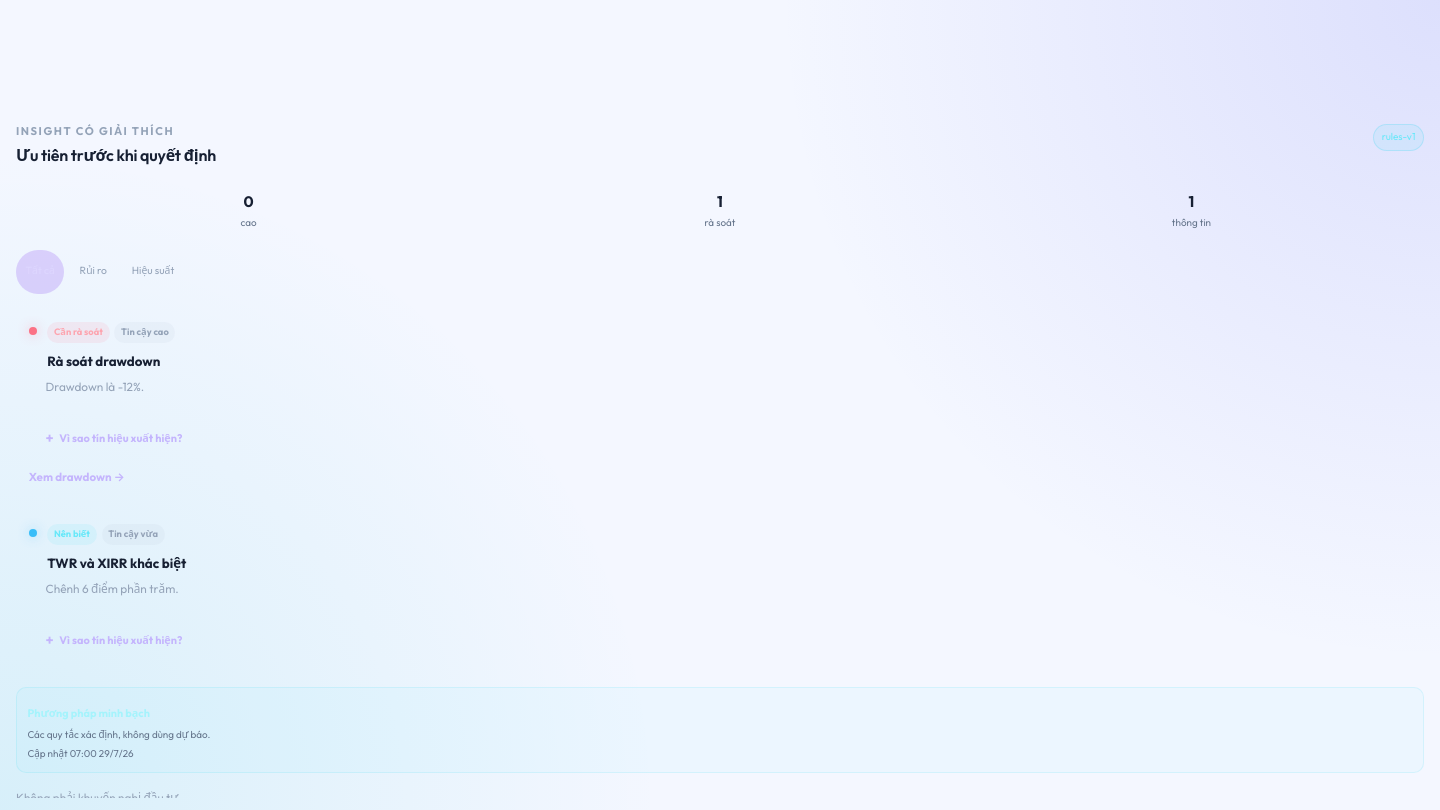
Test: InsightRail › filters insight categories without changing the source result
Click the button "Rủi ro": click(93, 272) [70,250,116,294]
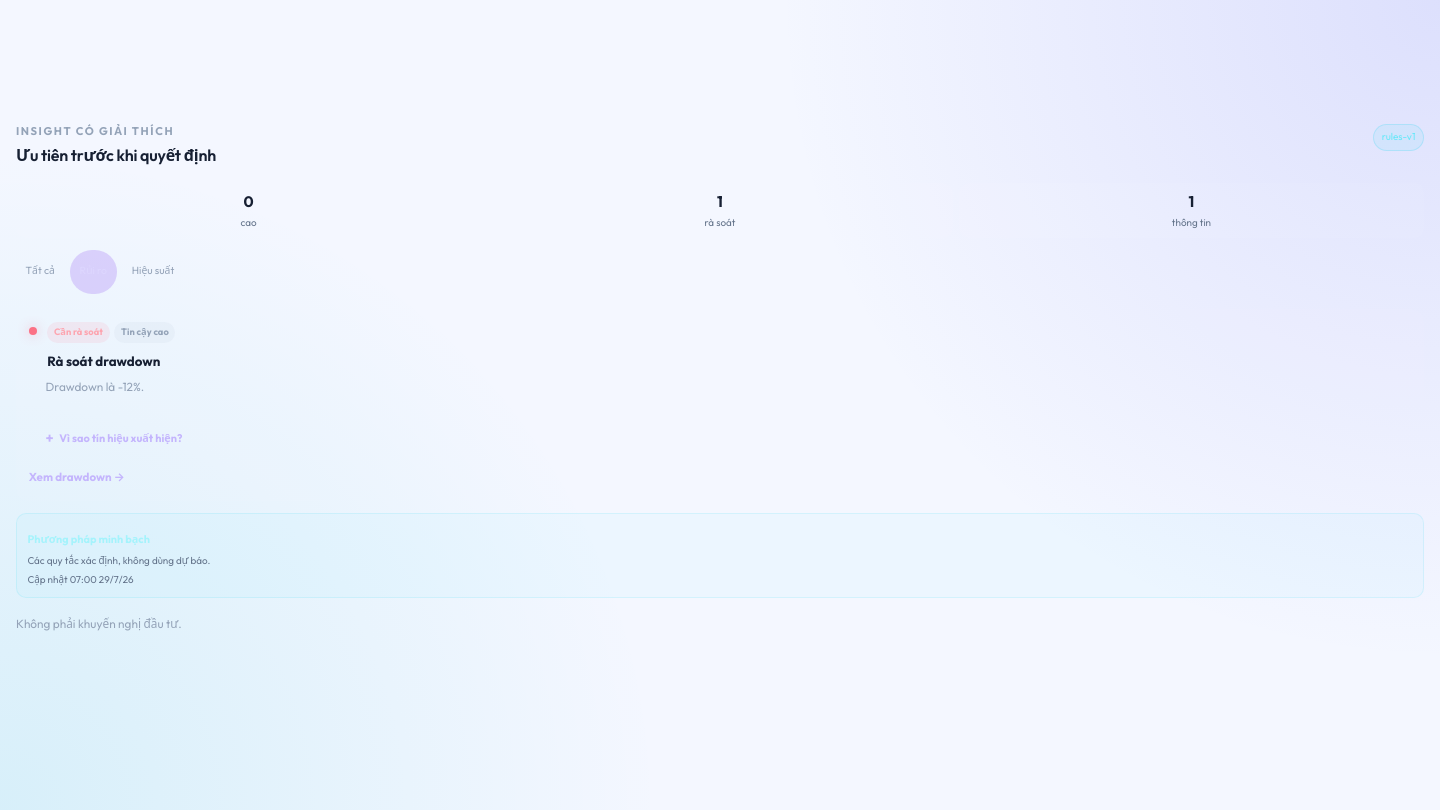
Expected: the text "Rà soát drawdown" is shown, [47,353,160,369]
Now the text "TWR và XIRR khác biệt" is gone
